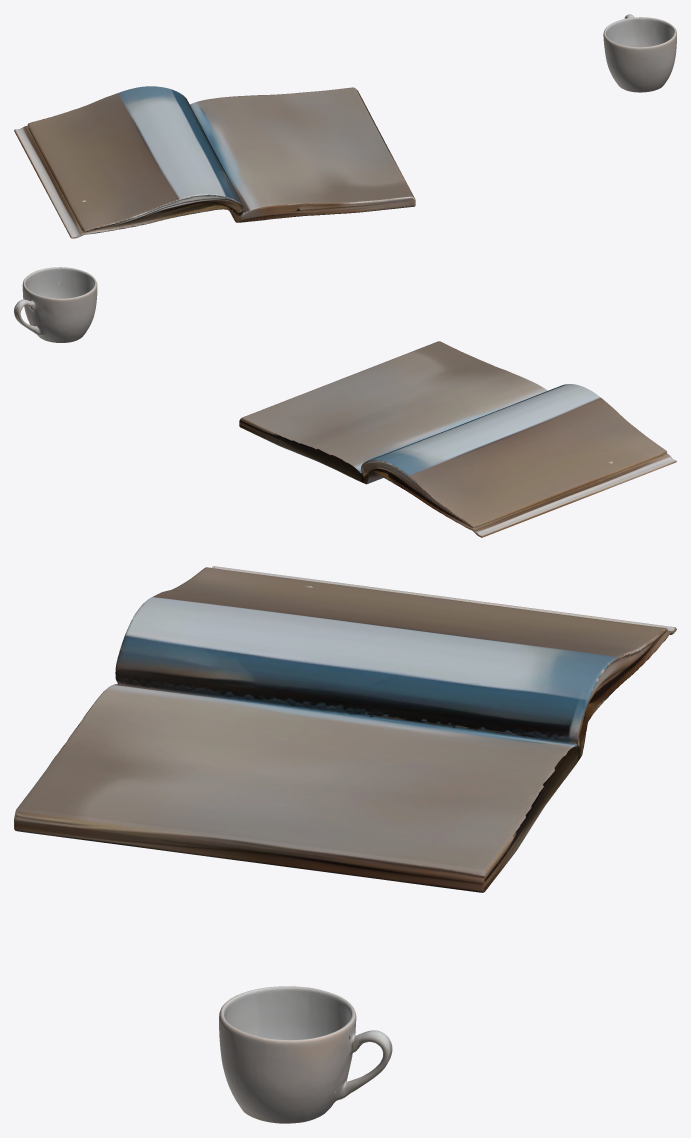
Rendered from simfoundry.glb.
3 renders of one model, top to bottom at view 1: azimuth 30°, elevation 25°; view 2: azimuth 150°, elevation 25°; view 3: azimuth 270°, elevation 25°, orthographic. The views are drawn at different scales.
Parts seen in each view (by area): view 1: open_magazine_yybfdo_link_iter_0_canonical_mesh_obj, white_cup_with_saucer_npcdvo_link_iter_1_canonical_mesh_obj; view 2: open_magazine_yybfdo_link_iter_0_canonical_mesh_obj, white_cup_with_saucer_npcdvo_link_iter_1_canonical_mesh_obj; view 3: open_magazine_yybfdo_link_iter_0_canonical_mesh_obj, white_cup_with_saucer_npcdvo_link_iter_1_canonical_mesh_obj.
Boxes of the visible parts, left/top/right/bottom form: open_magazine_yybfdo_link_iter_0_canonical_mesh_obj: left=14, top=86, right=415, bottom=238; white_cup_with_saucer_npcdvo_link_iter_1_canonical_mesh_obj: left=603, top=14, right=676, bottom=92; open_magazine_yybfdo_link_iter_0_canonical_mesh_obj: left=239, top=341, right=676, bottom=537; white_cup_with_saucer_npcdvo_link_iter_1_canonical_mesh_obj: left=14, top=267, right=97, bottom=342; open_magazine_yybfdo_link_iter_0_canonical_mesh_obj: left=14, top=566, right=676, bottom=892; white_cup_with_saucer_npcdvo_link_iter_1_canonical_mesh_obj: left=219, top=986, right=392, bottom=1123.
Size of what is drawn, in the model's own units: 0.6544 by 0.0515 by 0.3259.
Materials: 2 (2 with a texture image).
